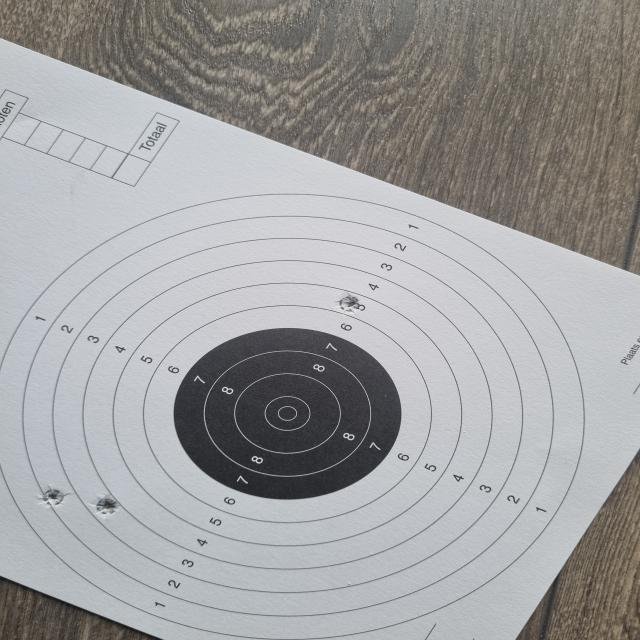2: (38, 489, 70, 506)
3: (96, 498, 121, 515)
5: (335, 294, 360, 312)
Target: (0, 193, 586, 640)
black_contour: (172, 328, 404, 500)
